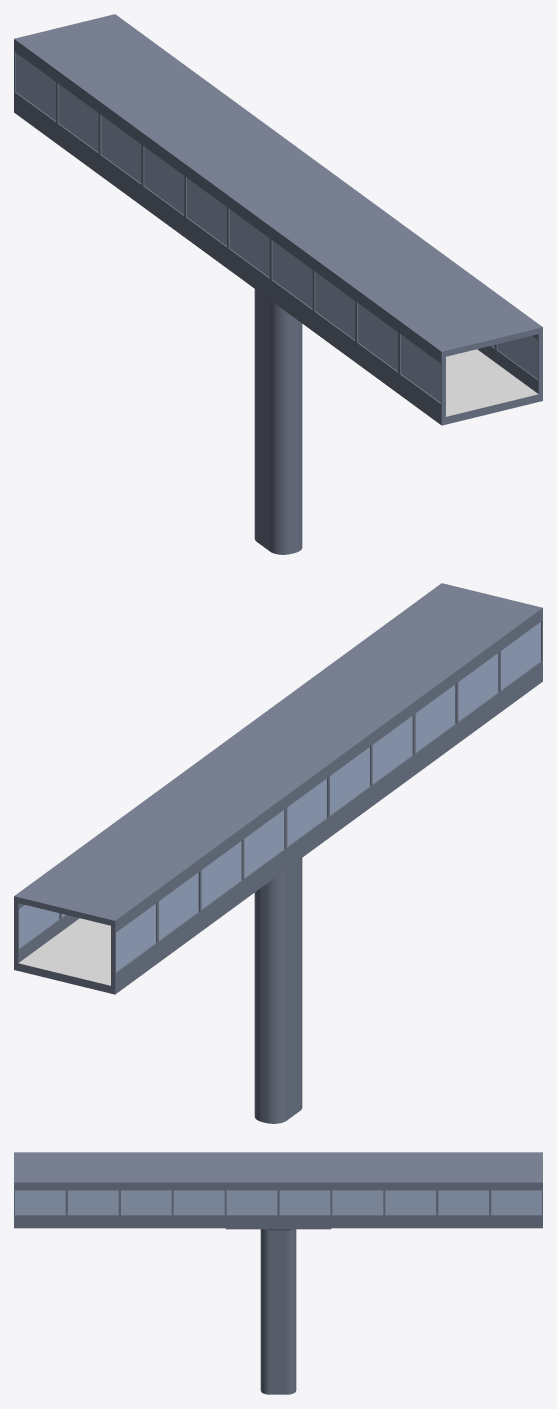
Rendered from bridge.glb.
3 renders of one model, top to bottom at view 1: azimuth 30°, elevation 25°; view 2: azimuth 150°, elevation 25°; view 3: azimuth 270°, elevation 25°, orthographic. The views are drawn at different scales.
Visible parts, largest first — view 1: Cube, windows; view 2: Cube, windows; view 3: Cube, windows.
Part boxes in pixels (x1=…): Cube: x1=14, y1=14, x2=542, y2=554; windows: x1=16, y1=53, x2=537, y2=402; Cube: x1=14, y1=583, x2=542, y2=1123; windows: x1=19, y1=622, x2=540, y2=971; Cube: x1=14, y1=1152, x2=542, y2=1394; windows: x1=15, y1=1190, x2=541, y2=1214.
Size of the model in its own units: 10.93 by 37.15 by 80.
